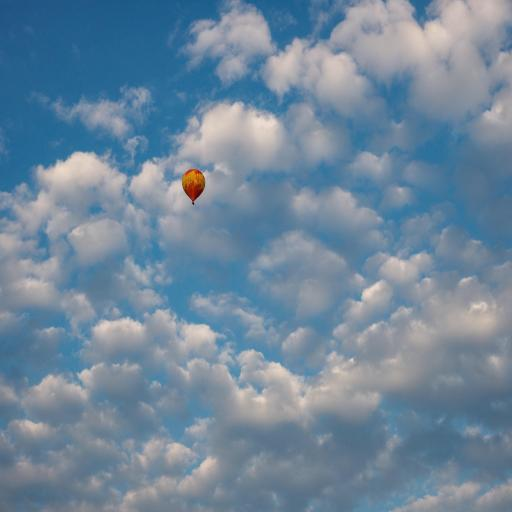hot air ballon: (181, 163, 206, 212)
